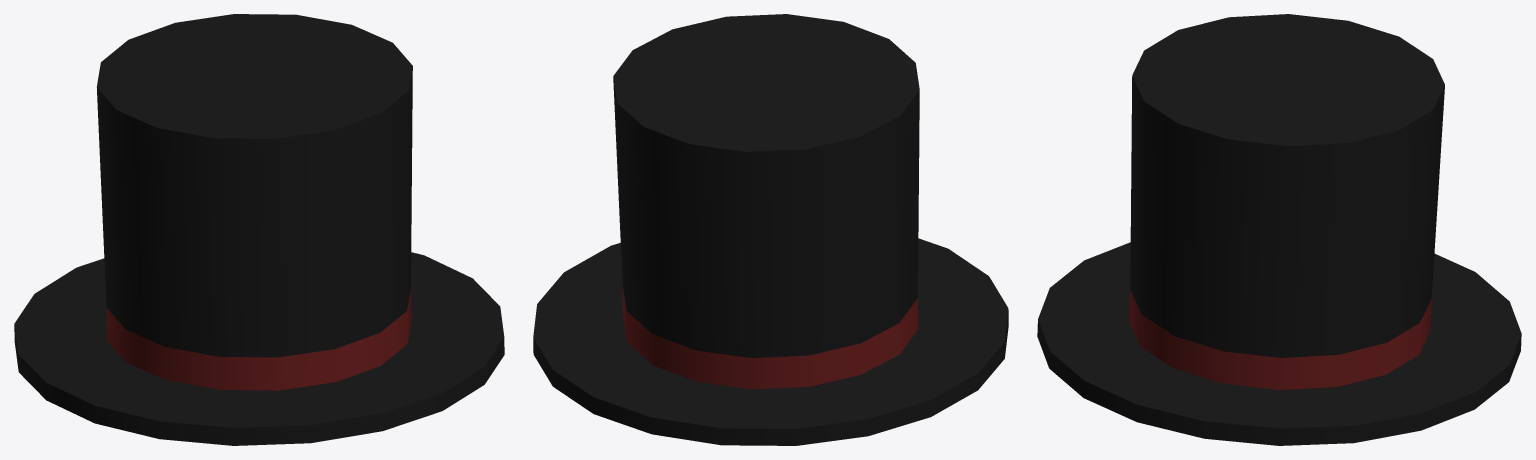
File: top_hat_f.glb
The picture shows the model from 3 angles, left to right: view 1: azimuth 30°, elevation 25°; view 2: azimuth 150°, elevation 25°; view 3: azimuth 270°, elevation 25°; orthographic projection. The views are drawn at different scales.
Visible parts, largest first — view 1: top_hat_f; view 2: top_hat_f; view 3: top_hat_f.
Boxes of the visible parts, x1,y1,x2,y2 form: top_hat_f: (14, 14, 504, 445); top_hat_f: (533, 14, 1008, 445); top_hat_f: (1037, 14, 1521, 445).
Bounding box in the file's own units: 0.3022 × 0.1897 × 0.3024.
